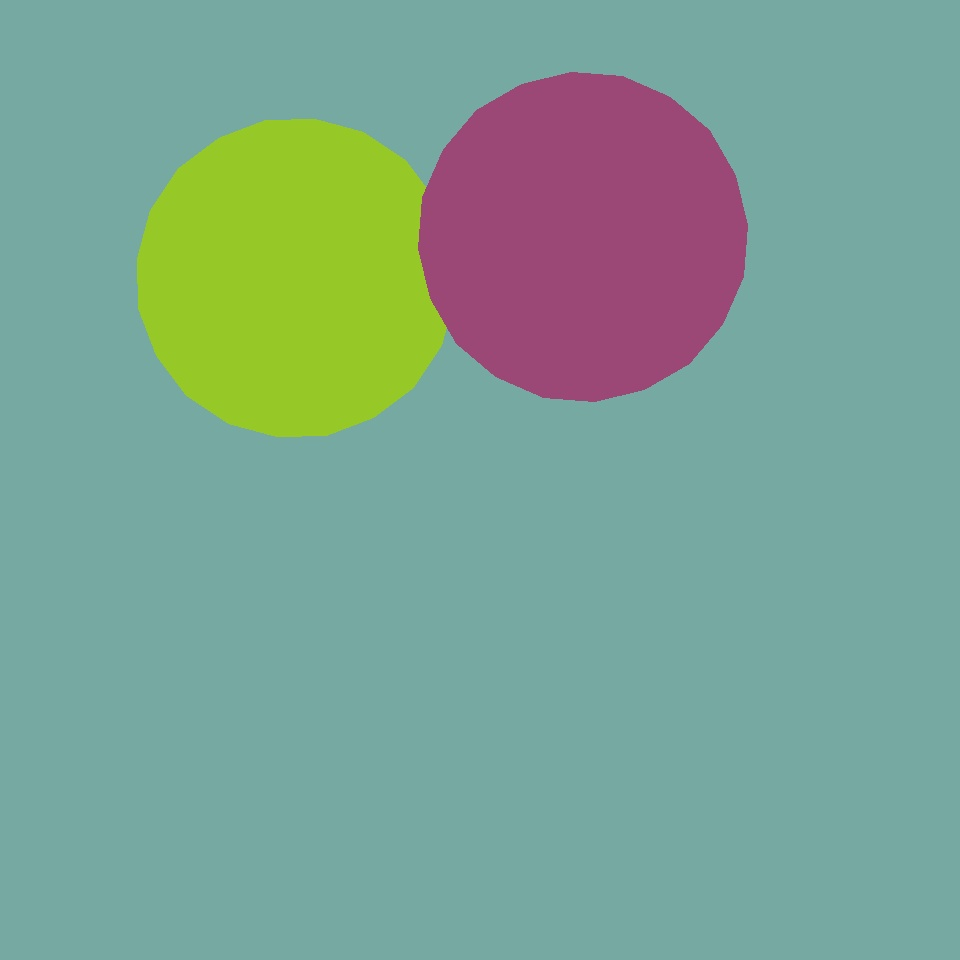circle: (350, 255, 533, 420)
square: (427, 293, 752, 617), (24, 272, 341, 588)
triangle: (418, 73, 748, 402), (138, 120, 454, 436), (372, 464, 558, 650), (458, 222, 579, 343)
